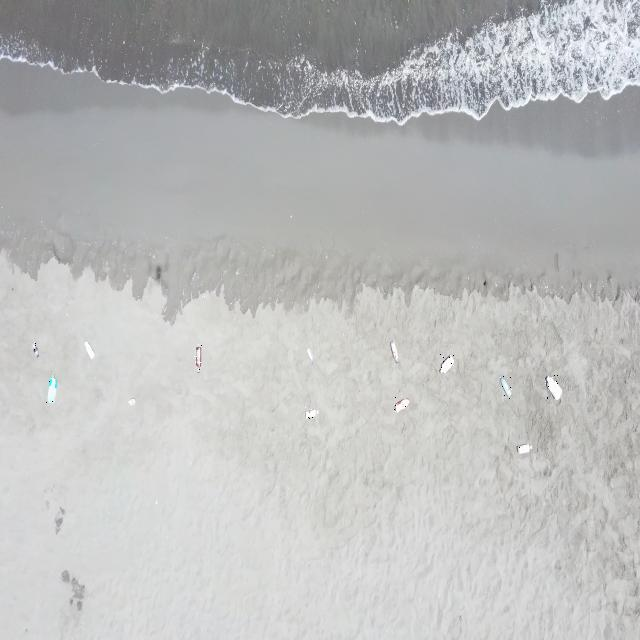Garbage: (546, 375, 562, 399), (54, 508, 64, 533), (47, 375, 56, 402), (500, 375, 511, 397), (440, 355, 452, 372), (393, 397, 407, 411), (84, 340, 94, 359), (304, 408, 318, 419), (516, 443, 531, 452), (391, 340, 397, 362), (195, 344, 200, 369), (307, 347, 312, 362), (32, 342, 37, 356), (128, 397, 134, 404)
